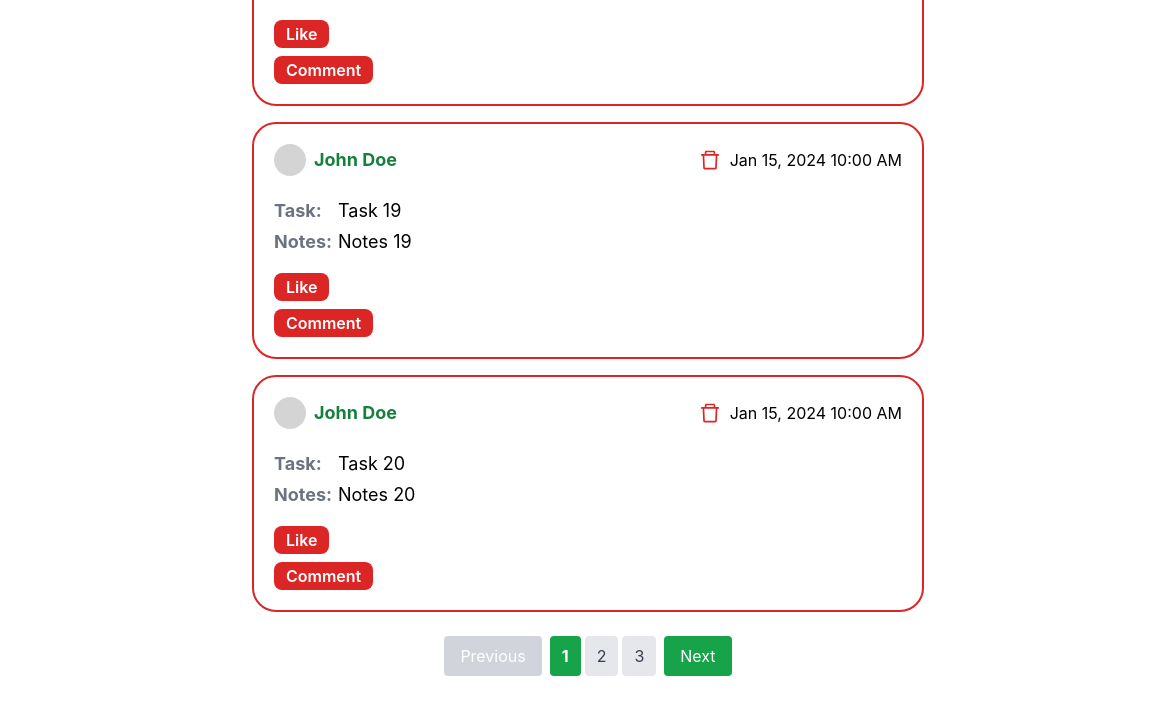
Test case: UserProfile › Pagination › should load page 2 when Next button is clicked
(page scrolled)
Click the button with aria-label "Next page" at (698, 656), box 664,636 -> 732,676
(page scrolled)
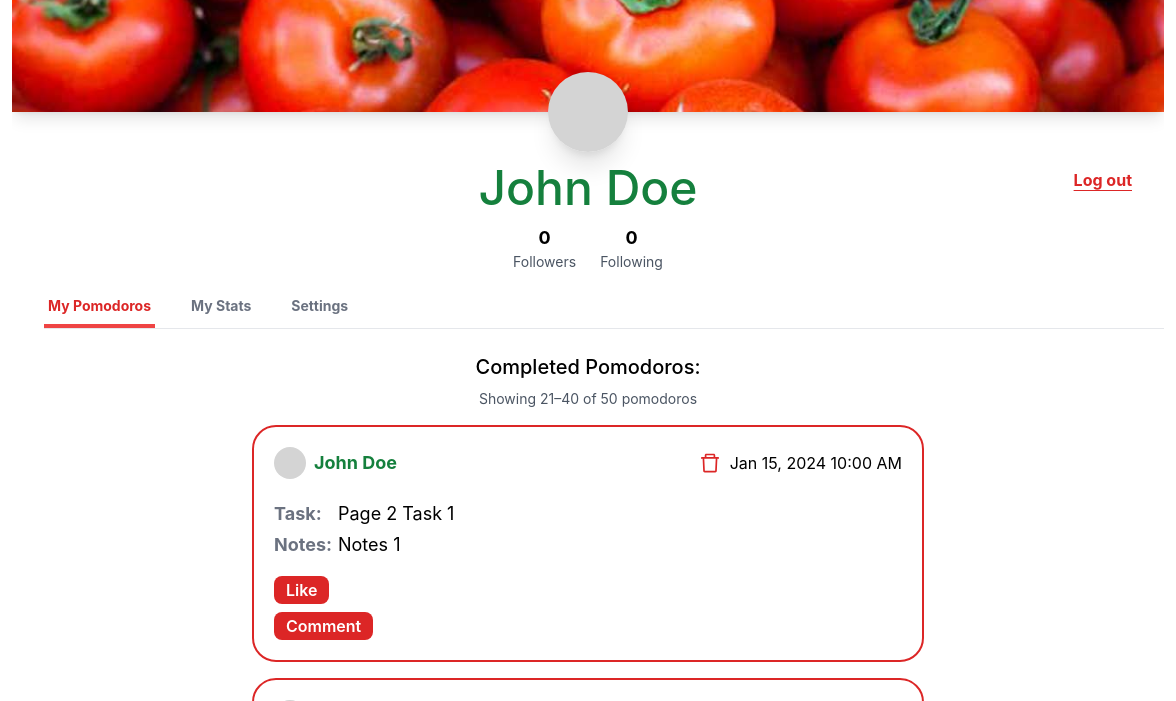
Expected: the text "Page 2 Task 1" is shown, 338,503 -> 454,526
